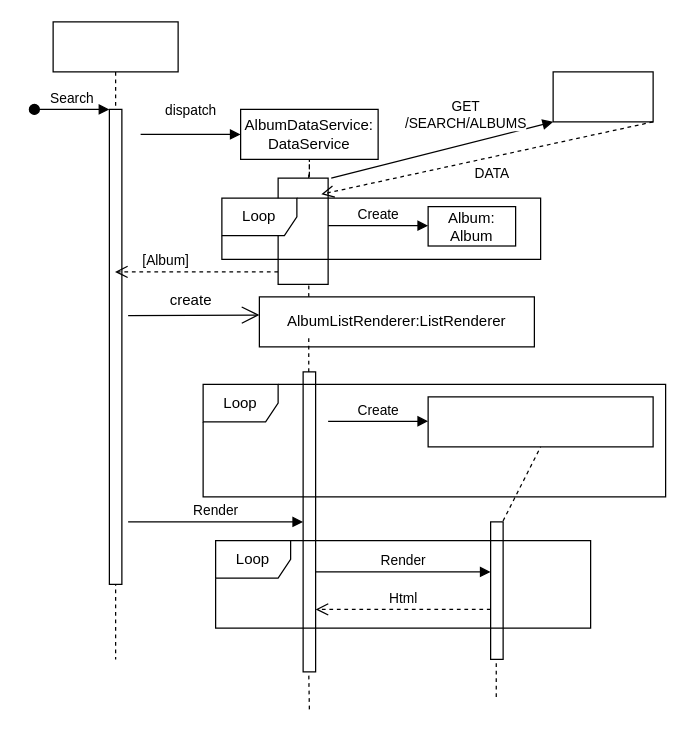
Some shapes in this 688 by 733 pixel diagram are drawn without their labels. Each missing label, with the box of its shape:
AlbumController: Controller: (52, 21, 178, 659)
AlbumRenderer:ItemRenderer: (427, 396, 653, 447)
APi: (552, 71, 653, 122)
